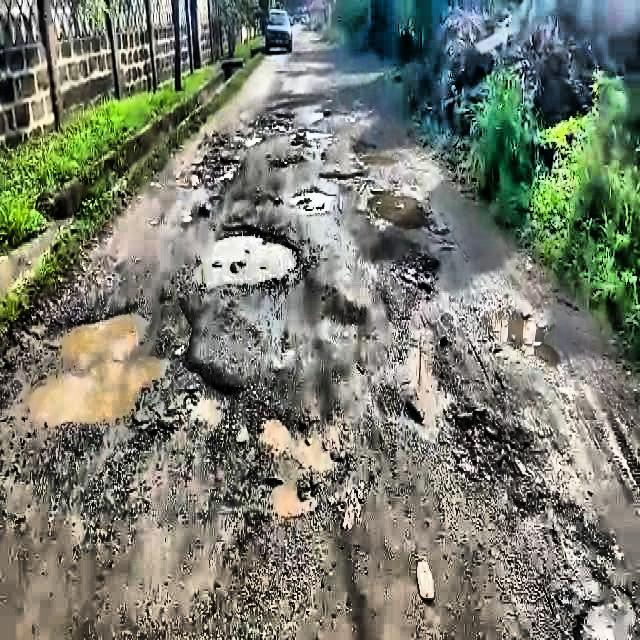buraco: (17, 294, 246, 438), (240, 404, 352, 528), (442, 404, 540, 490), (202, 223, 304, 290), (479, 306, 564, 372), (368, 190, 433, 232), (178, 156, 242, 194), (288, 186, 332, 213), (318, 168, 374, 185)
